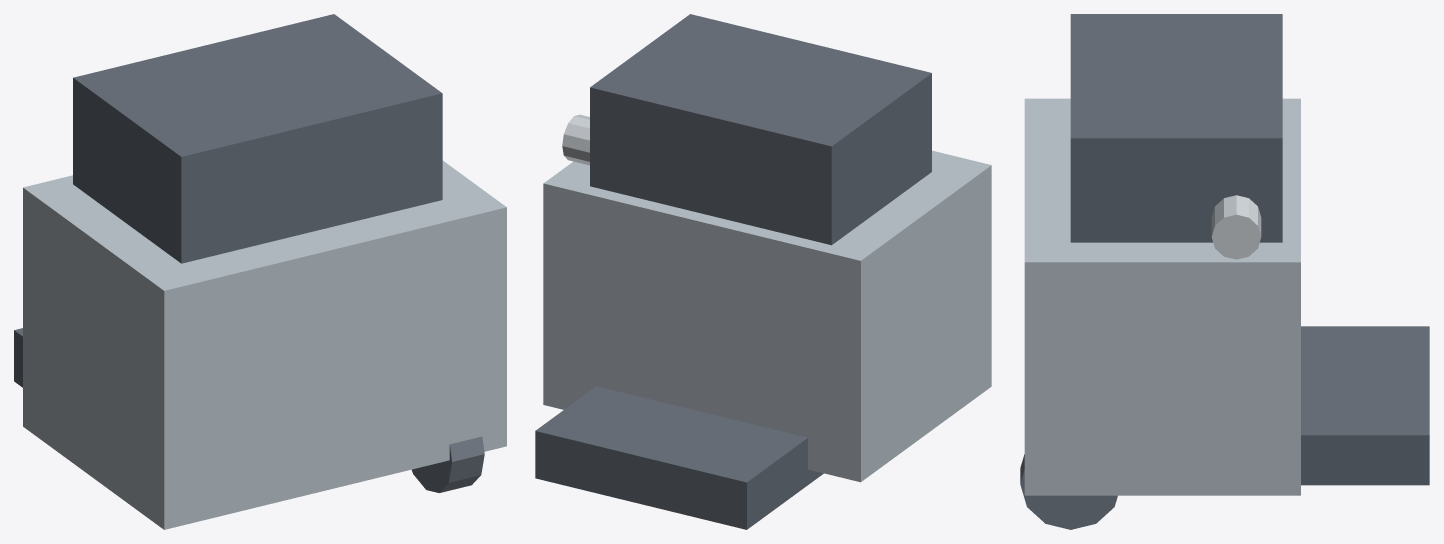
File: trituradora_1.glb
The picture shows the model from 3 angles, left to right: view 1: azimuth 30°, elevation 25°; view 2: azimuth 150°, elevation 25°; view 3: azimuth 270°, elevation 25°; orthographic projection. The views are drawn at different scales.
Visible parts, largest first — view 1: chasis, tolva, rueda; view 2: chasis, tolva, cinta, rodillo; view 3: chasis, tolva, cinta, rodillo, rueda.
Part boxes in pixels (box(x1,y1,x2,y2)): chasis: box(23, 160, 506, 529); tolva: box(73, 14, 442, 263); rueda: box(411, 436, 484, 492); chasis: box(543, 150, 991, 482); tolva: box(590, 14, 931, 245); cinta: box(535, 386, 823, 529); rodillo: box(562, 114, 589, 165); chasis: box(1024, 98, 1300, 495); tolva: box(1070, 14, 1282, 242); cinta: box(1301, 326, 1429, 485); rodillo: box(1211, 195, 1261, 259); rueda: box(1020, 454, 1117, 529).
Bounding box in the file's own units: 0.8217 × 0.9 × 0.8707.
